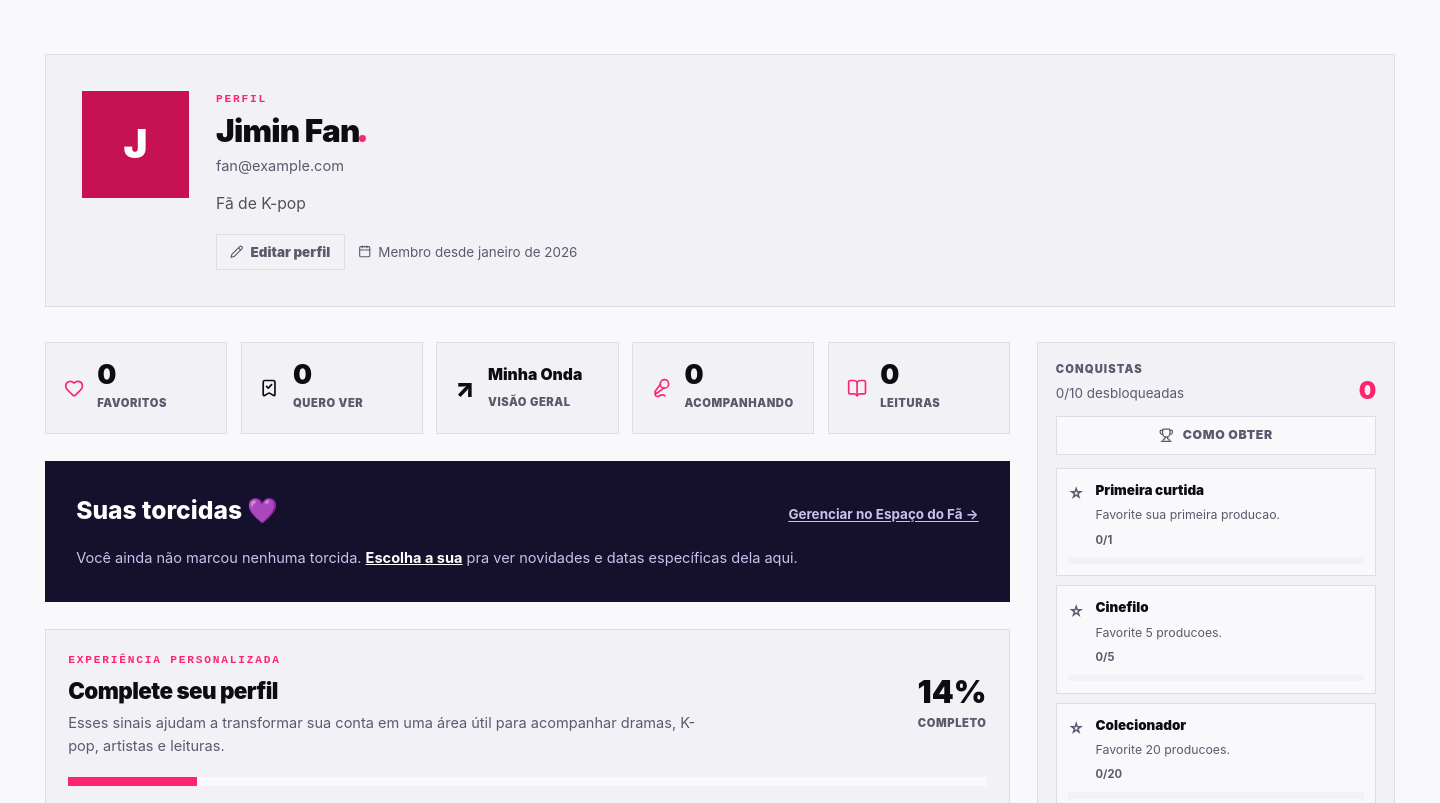
Scenario: PerfilClient › "Cancelar" descarta as alterações e volta ao modo de visualização
Click the button "Editar perfil": (280, 252) [216,234,345,270]
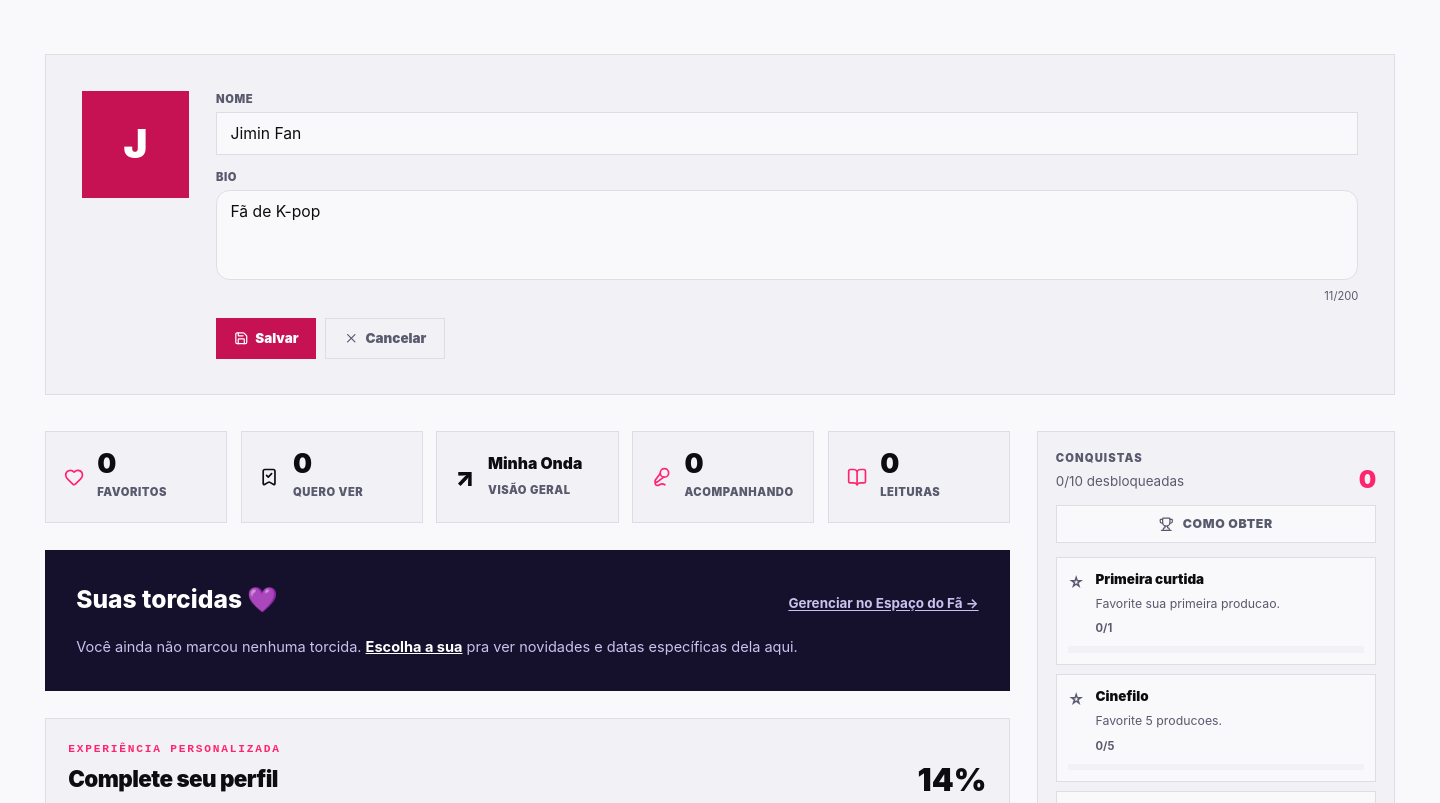
Replace the text in the field labelled "Nome" with "Outro Nome": (787, 134) [216,112,1358,155]
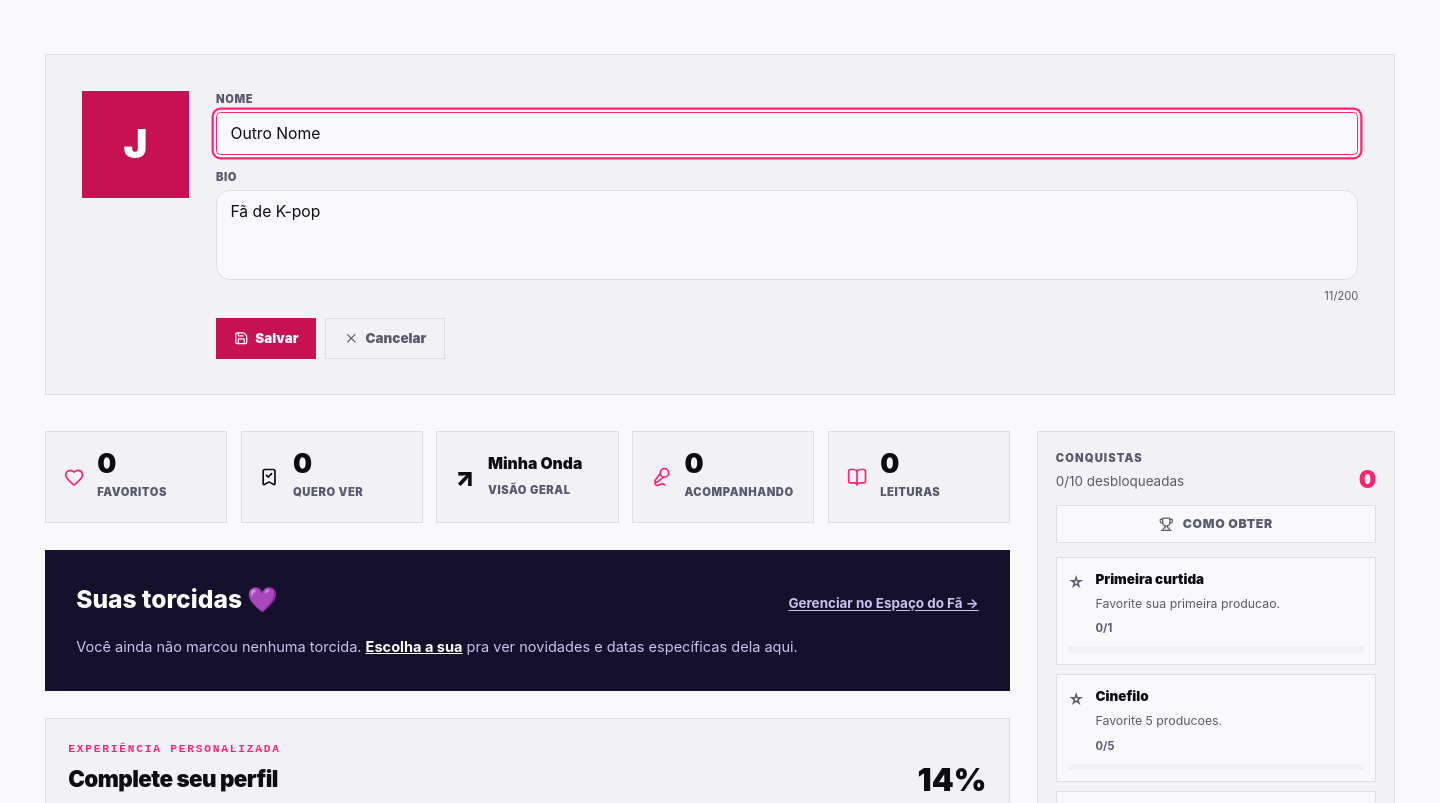
Click the button "Cancelar": (385, 339) [325,318,445,359]
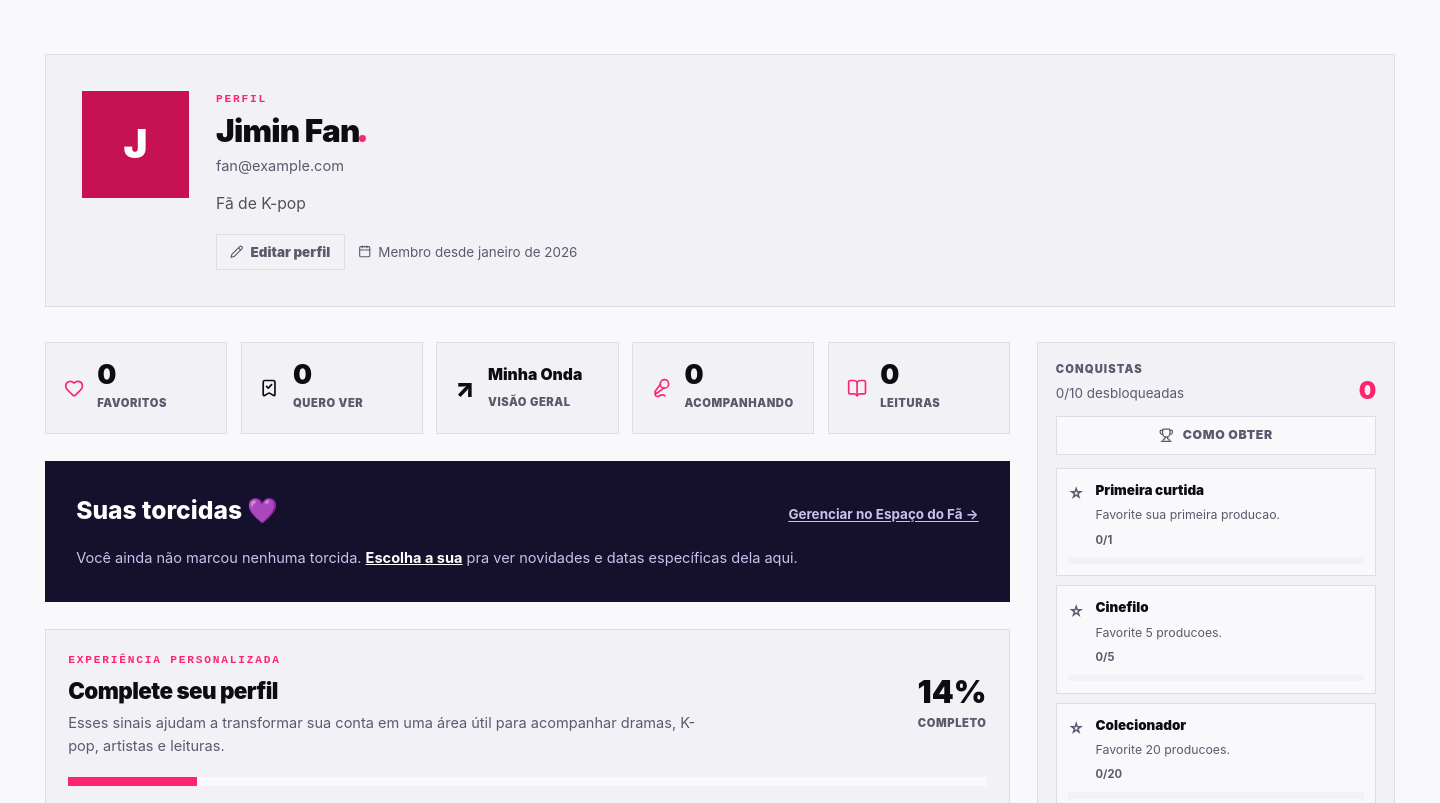
Expected: the heading "Jimin Fan" is shown, [216,112,366,150]
Expected: the field "Outro Nome" is gone
